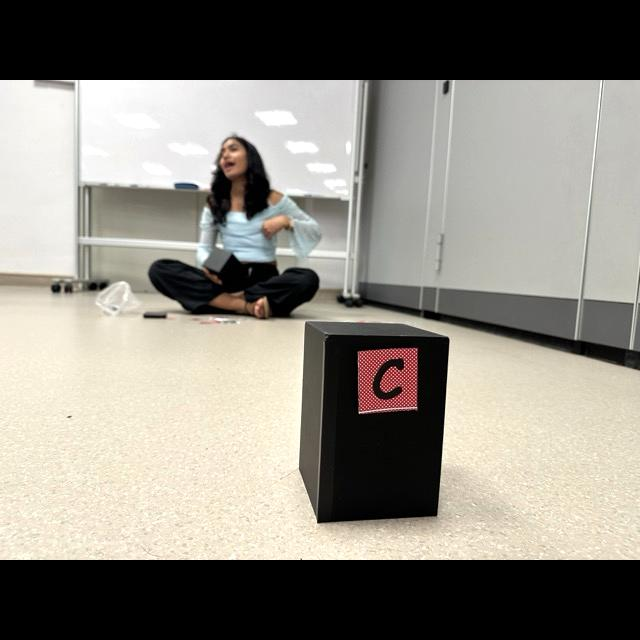C: (373, 357, 403, 398)
